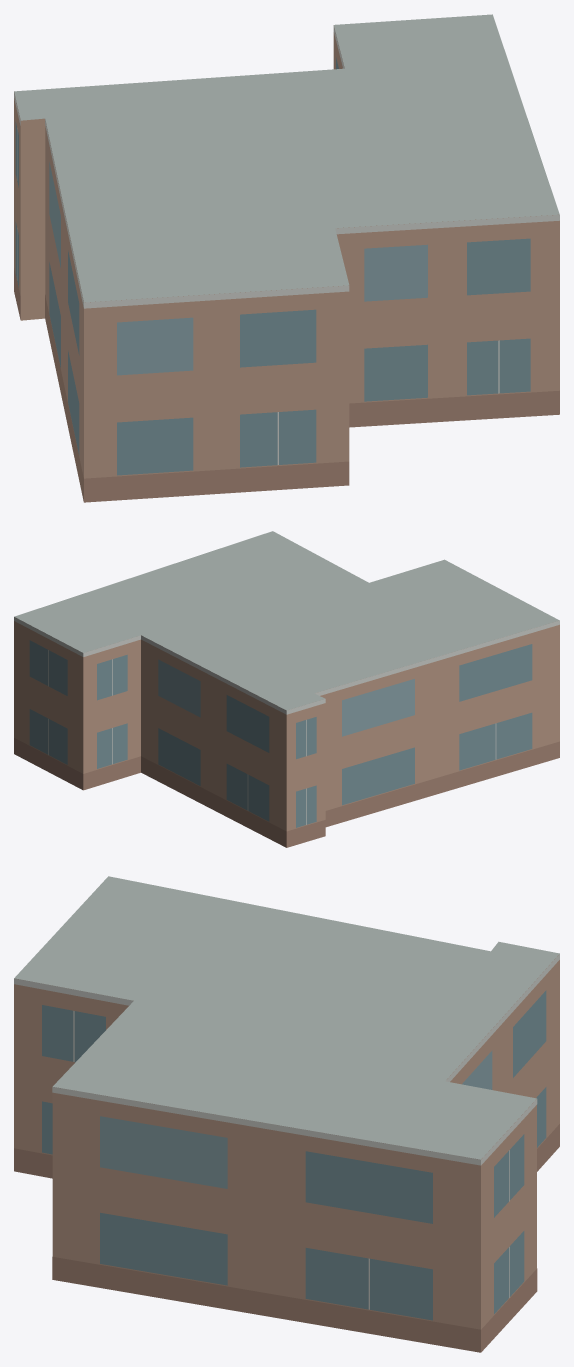
Rendered from survey-upis-32962291.glb.
3 renders of one model, top to bottom at view 1: azimuth 30°, elevation 25°; view 2: azimuth 150°, elevation 25°; view 3: azimuth 270°, elevation 25°, orthographic. The views are drawn at different scales.
Visible parts, largest first — view 1: survey-upis-32962291.tmp; view 2: survey-upis-32962291.tmp; view 3: survey-upis-32962291.tmp.
Boxes of the visible parts, <box> form: survey-upis-32962291.tmp: <box>14,14,559,502</box>; survey-upis-32962291.tmp: <box>14,531,559,847</box>; survey-upis-32962291.tmp: <box>14,876,559,1352</box>.
Size of the model in its own units: 25.07 by 7.96 by 20.4.
